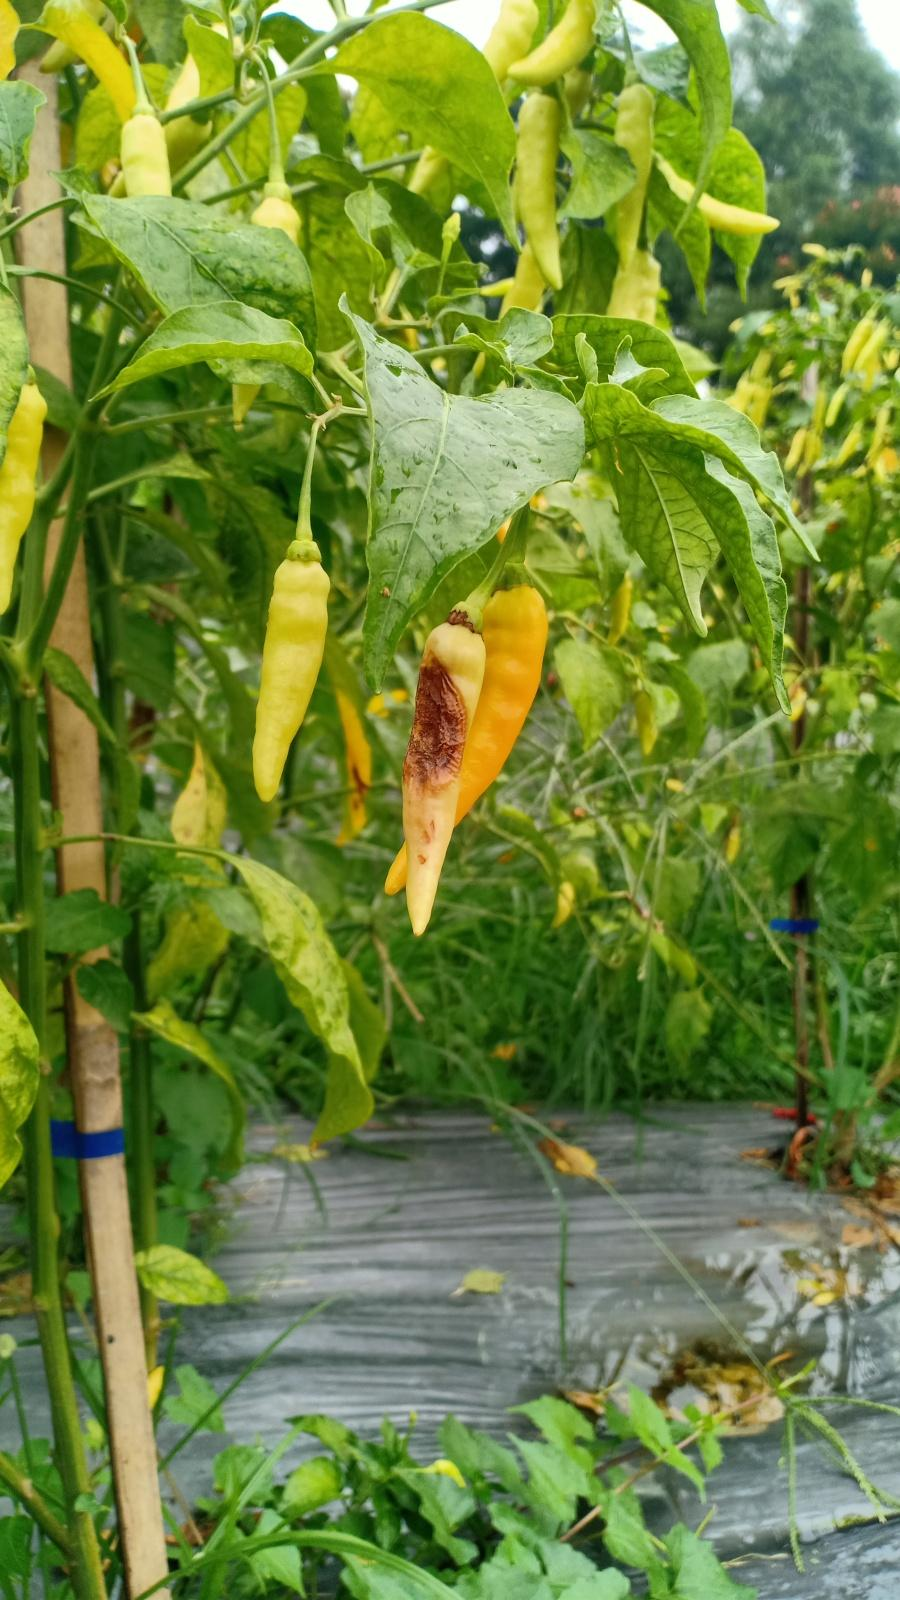antraknosa: (401, 615, 487, 936)
cabai_normal: (252, 552, 332, 803), (1, 379, 51, 621), (514, 90, 566, 288), (608, 80, 657, 273), (657, 157, 780, 231), (505, 1, 596, 84), (119, 114, 173, 197)
